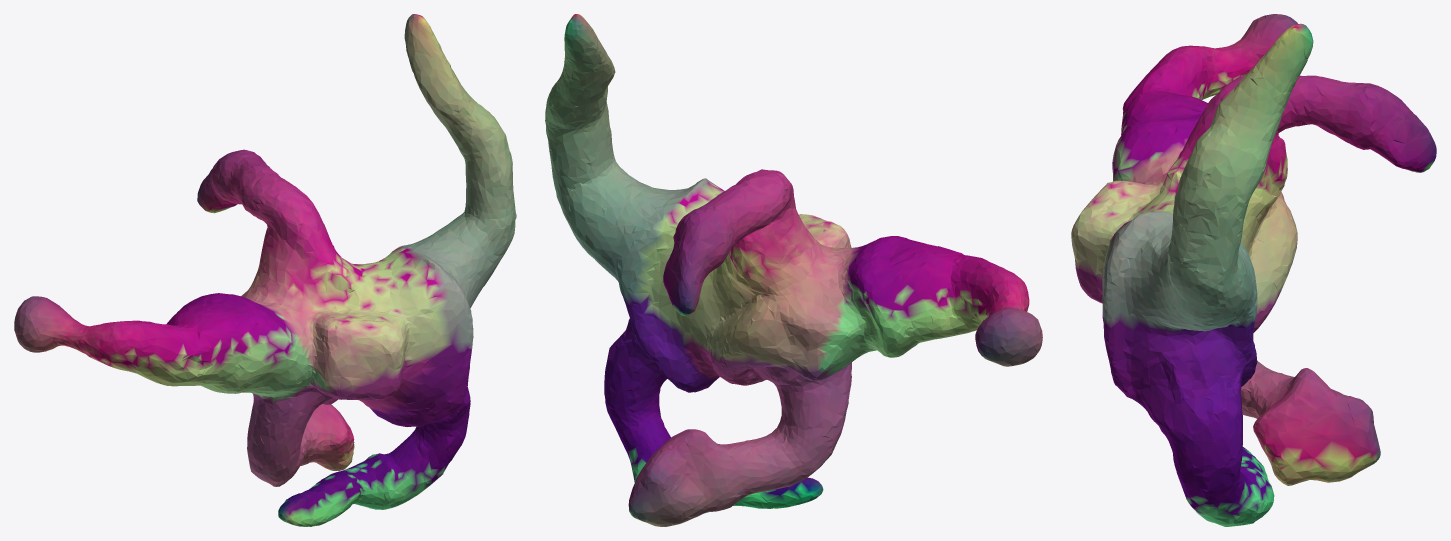
Rendered from santa-17.off.obj.
The picture shows the model from 3 angles, left to right: view 1: azimuth 30°, elevation 25°; view 2: azimuth 150°, elevation 25°; view 3: azimuth 270°, elevation 25°; orthographic projection. The views are drawn at different scales.
Bounding box in the file's own units: 1.45 × 1.35 × 0.8335.
